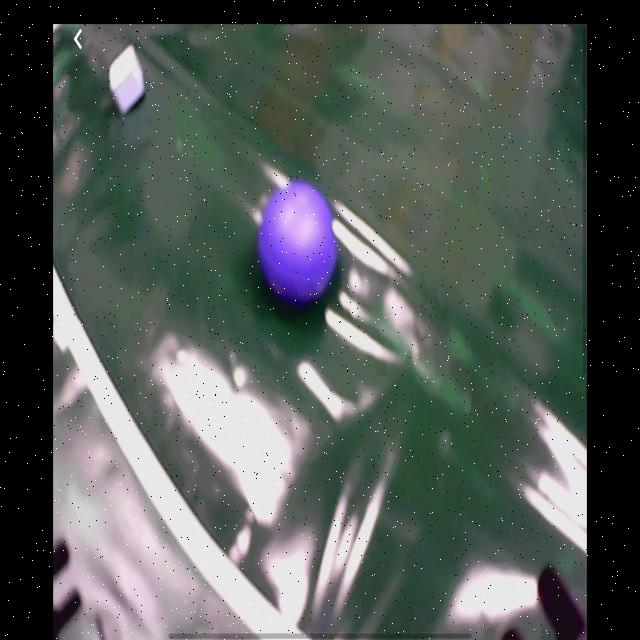ball: (260, 185, 335, 304)
